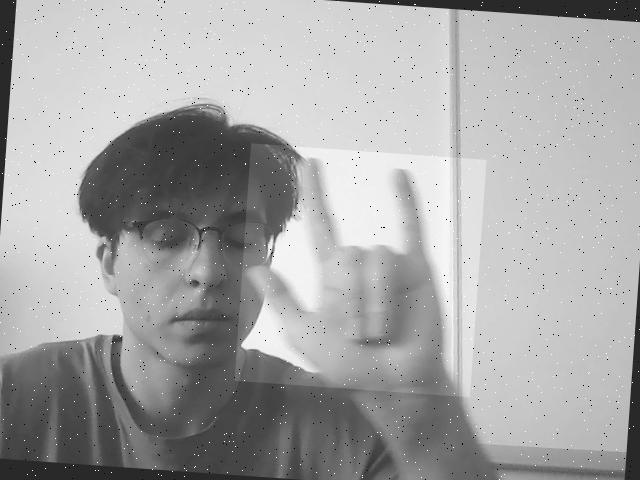I_Love_You: (234, 143, 486, 397)
